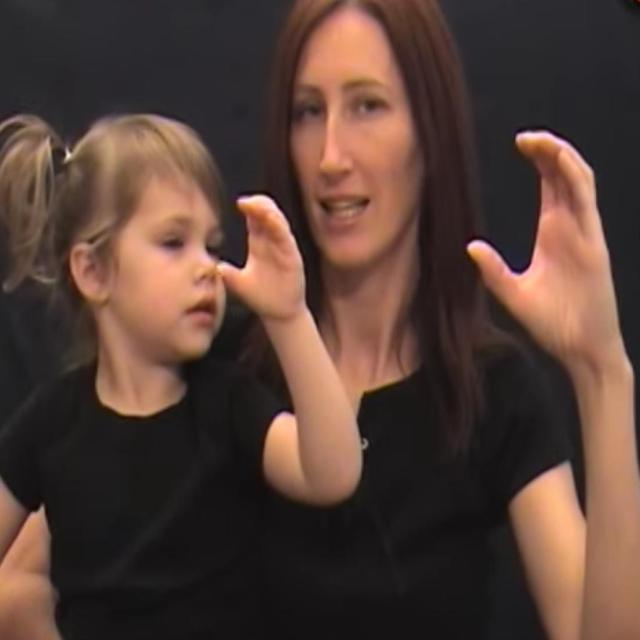C: (464, 126, 637, 380), (212, 192, 312, 326)
